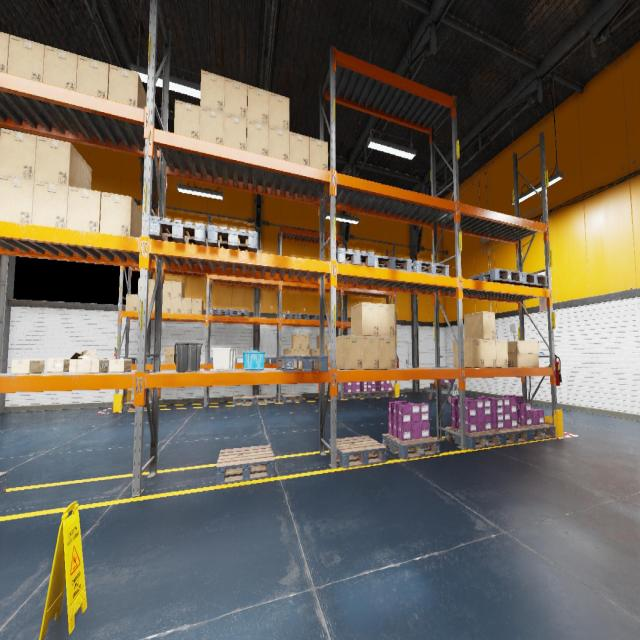box: (34, 136, 92, 189), (100, 191, 142, 237), (0, 128, 37, 180), (7, 34, 45, 82), (32, 181, 68, 228), (108, 64, 146, 108), (42, 45, 78, 91), (0, 175, 34, 223), (67, 186, 101, 232), (76, 55, 109, 99), (247, 84, 269, 136), (200, 70, 225, 113), (174, 99, 200, 139), (224, 77, 247, 119), (351, 302, 379, 336), (199, 106, 224, 144), (464, 311, 495, 340), (337, 335, 362, 370), (453, 339, 484, 367), (507, 341, 540, 367), (224, 113, 246, 150), (269, 92, 289, 131), (247, 120, 268, 156), (289, 132, 309, 166), (269, 126, 289, 160), (309, 137, 328, 170), (69, 350, 96, 372), (379, 303, 395, 336), (380, 336, 396, 369), (363, 336, 379, 369), (12, 360, 44, 373), (83, 358, 109, 373), (0, 31, 9, 72), (496, 340, 508, 368), (484, 340, 496, 368), (47, 358, 69, 372), (109, 359, 132, 372), (171, 281, 184, 297), (137, 295, 149, 312), (126, 294, 137, 311), (181, 298, 192, 314), (170, 297, 181, 313), (138, 279, 149, 295), (164, 348, 175, 363), (192, 299, 203, 314), (163, 280, 171, 297), (162, 297, 170, 313), (292, 334, 301, 348), (317, 336, 327, 348), (148, 296, 155, 312), (149, 279, 155, 296), (302, 334, 309, 348), (309, 349, 319, 355), (284, 348, 293, 354), (294, 348, 301, 355), (327, 349, 330, 363), (302, 349, 309, 354), (324, 349, 327, 354), (257, 250, 262, 252)
pallets: (216, 445, 275, 485), (329, 436, 386, 468), (148, 216, 208, 246), (382, 433, 440, 459), (208, 224, 258, 252), (444, 427, 502, 449), (326, 248, 374, 274), (468, 268, 522, 284), (278, 355, 328, 372), (489, 427, 530, 445), (499, 272, 547, 287), (518, 424, 556, 441), (374, 255, 412, 271), (411, 260, 449, 276), (123, 399, 151, 411), (430, 383, 458, 391), (233, 395, 255, 405), (255, 394, 276, 404), (124, 357, 153, 364), (280, 393, 302, 402), (318, 392, 340, 400), (0, 472, 7, 494), (340, 392, 362, 399), (209, 308, 229, 315), (360, 391, 379, 398), (281, 312, 299, 319), (299, 313, 317, 320), (230, 309, 248, 316), (376, 390, 394, 397), (317, 315, 337, 321), (264, 358, 277, 363), (235, 358, 243, 363), (209, 358, 213, 363)
